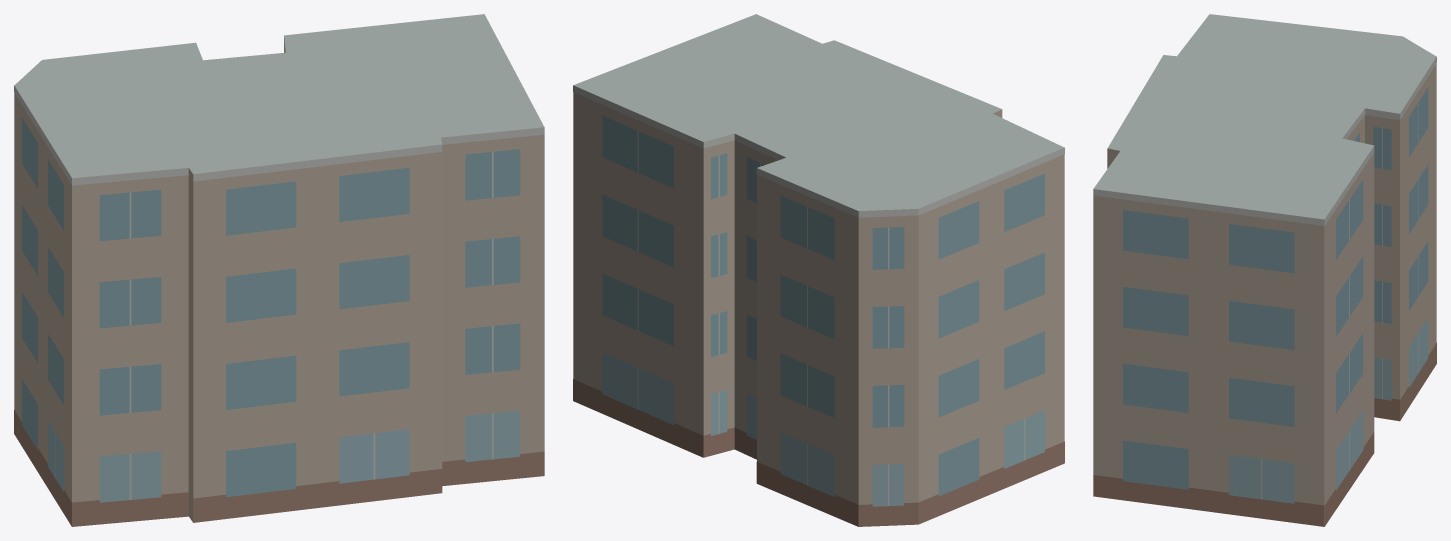
File: survey-upis-32741737.glb
3 views of the same model, side by side, from view 1: azimuth 30°, elevation 25°; view 2: azimuth 150°, elevation 25°; view 3: azimuth 270°, elevation 25° (orthographic). The views are drawn at different scales.
Parts seen in each view (by area): view 1: survey-upis-32741737.tmp; view 2: survey-upis-32741737.tmp; view 3: survey-upis-32741737.tmp.
Boxes of the visible parts, x1,y1,x2,y2 form: survey-upis-32741737.tmp: (14,14,544,526); survey-upis-32741737.tmp: (573,14,1064,526); survey-upis-32741737.tmp: (1093,14,1436,526).
Size of the model in its own units: 16.64 by 11.6 by 11.76.
